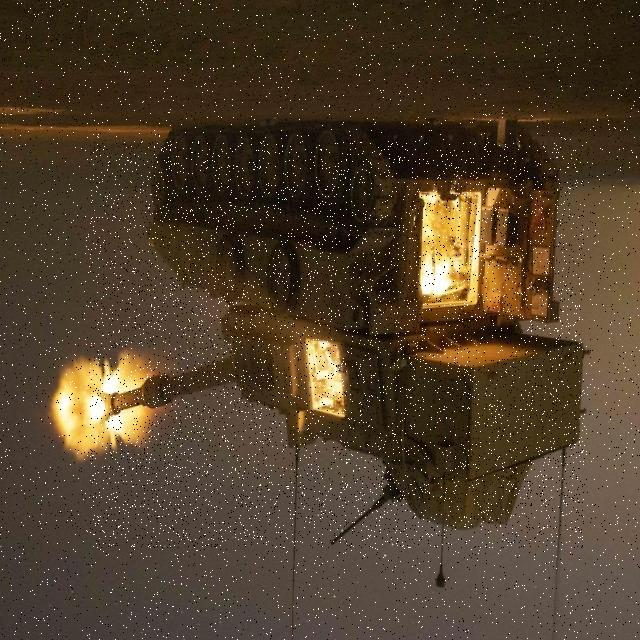MIL_MBT: (90, 141, 584, 548)
